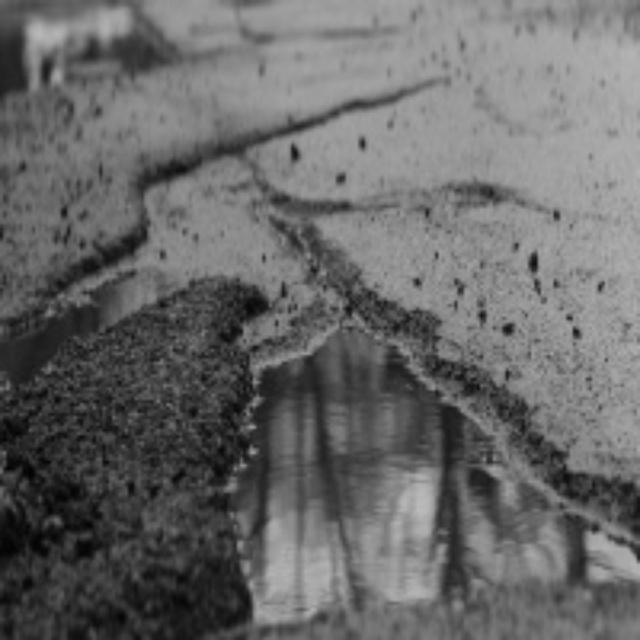Pothole: (207, 322, 591, 640)
